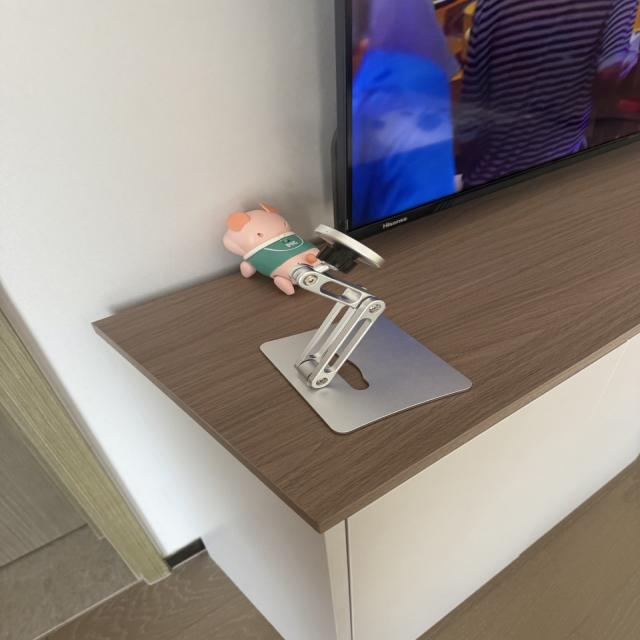phone holder: (238, 224, 483, 436)
